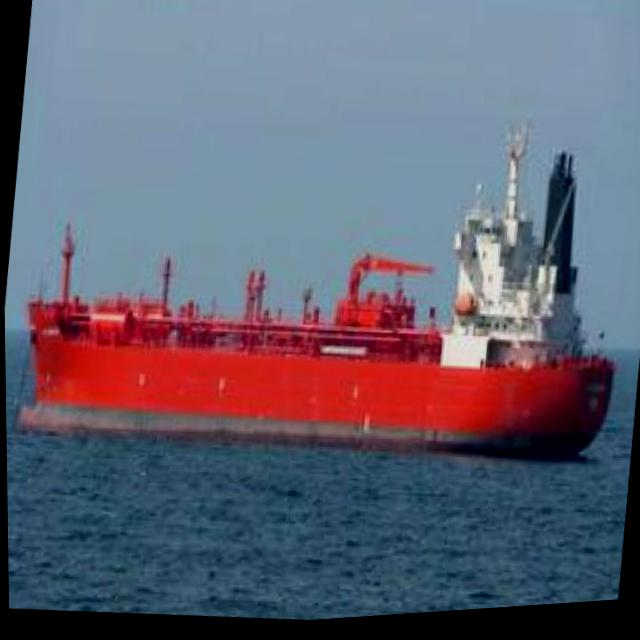ship2: (13, 129, 614, 472)
